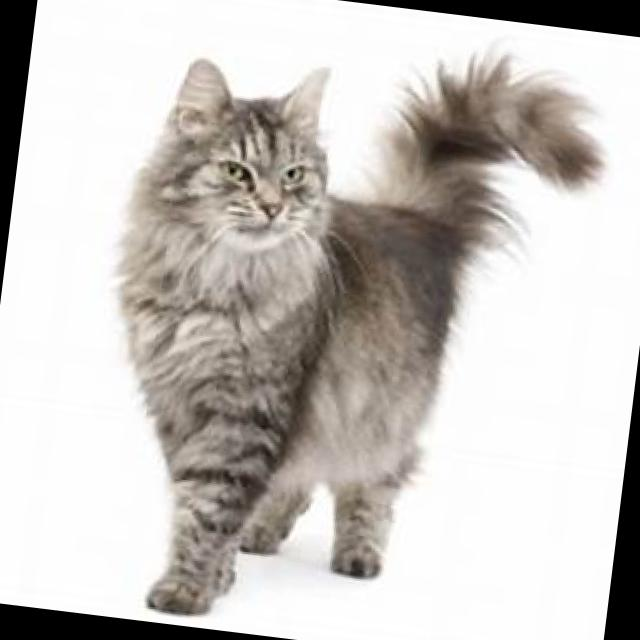cat: (71, 4, 620, 640)
